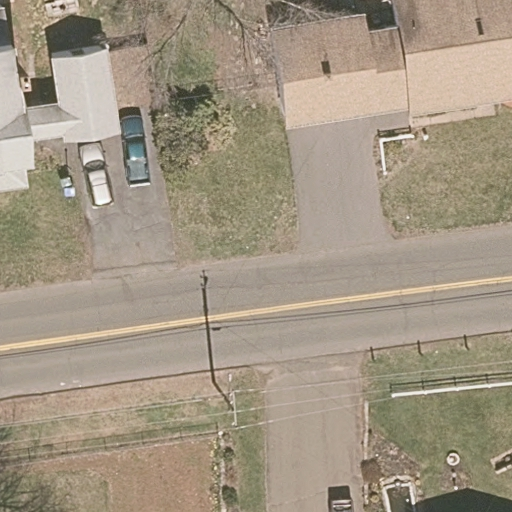DT: (208, 373, 239, 431)
